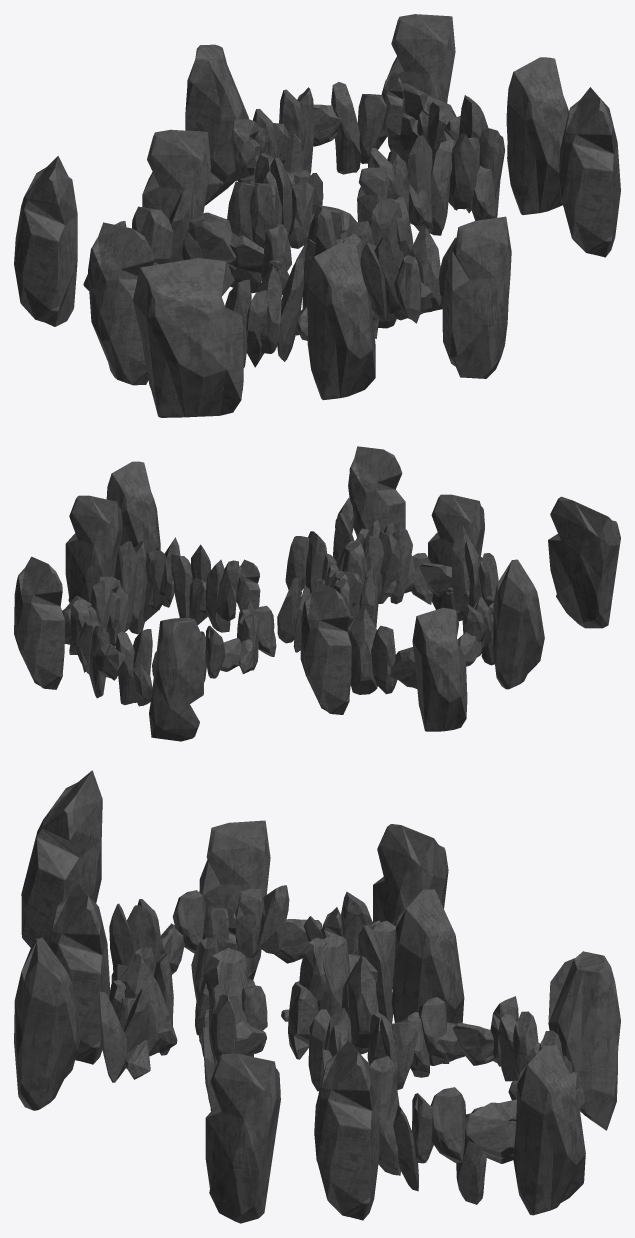
The model's file is Map_10.fbx.
3 views of the same model, one above another, from view 1: azimuth 30°, elevation 25°; view 2: azimuth 150°, elevation 25°; view 3: azimuth 270°, elevation 25° (orthographic). The views are drawn at different scales.
Visible parts, largest first — view 1: Map_10; view 2: Map_10; view 3: Map_10.
Part boxes in pixels (x1,y1,x2,y2): Map_10: [14, 14, 620, 417]; Map_10: [14, 446, 620, 741]; Map_10: [14, 770, 620, 1223].
Bounding box in the file's own units: 146 × 47.29 × 130.
1 material, 1 textured.
